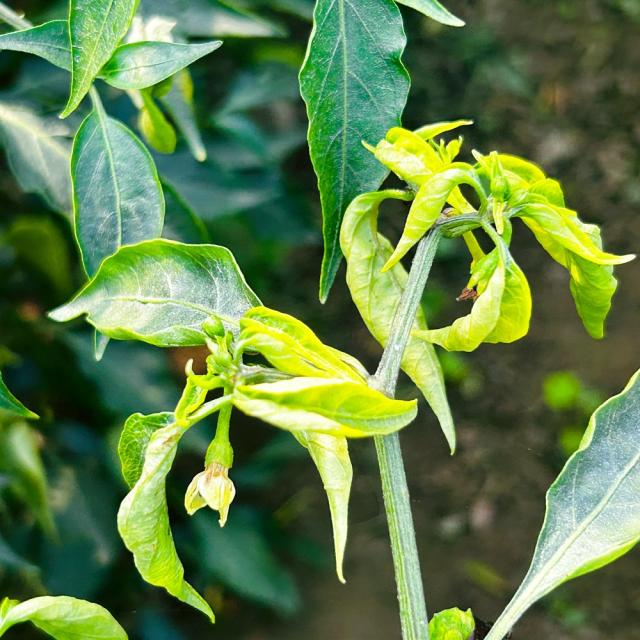Chilli_Leaf_Curl: (1, 1, 638, 636), (338, 117, 636, 455), (115, 304, 421, 623), (482, 366, 639, 638), (296, 0, 412, 305), (45, 236, 265, 360), (0, 0, 223, 120), (116, 409, 217, 623), (68, 99, 166, 280), (230, 374, 420, 438), (0, 594, 129, 639), (427, 605, 475, 639)
